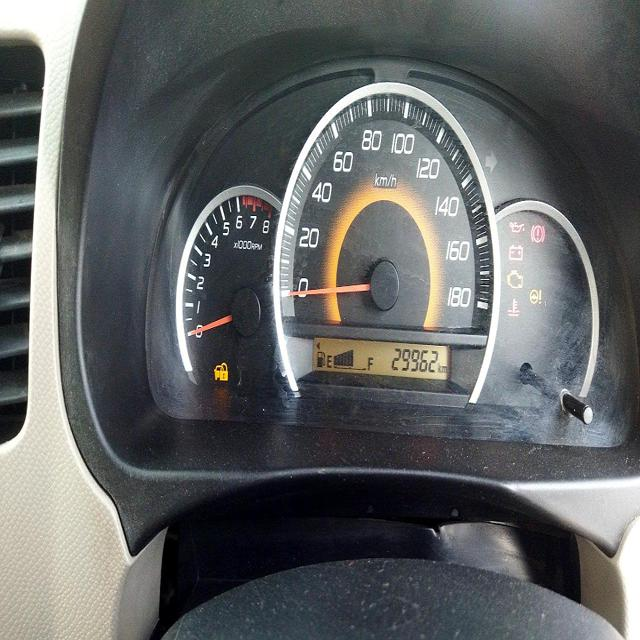odometer: (389, 346, 437, 378)
